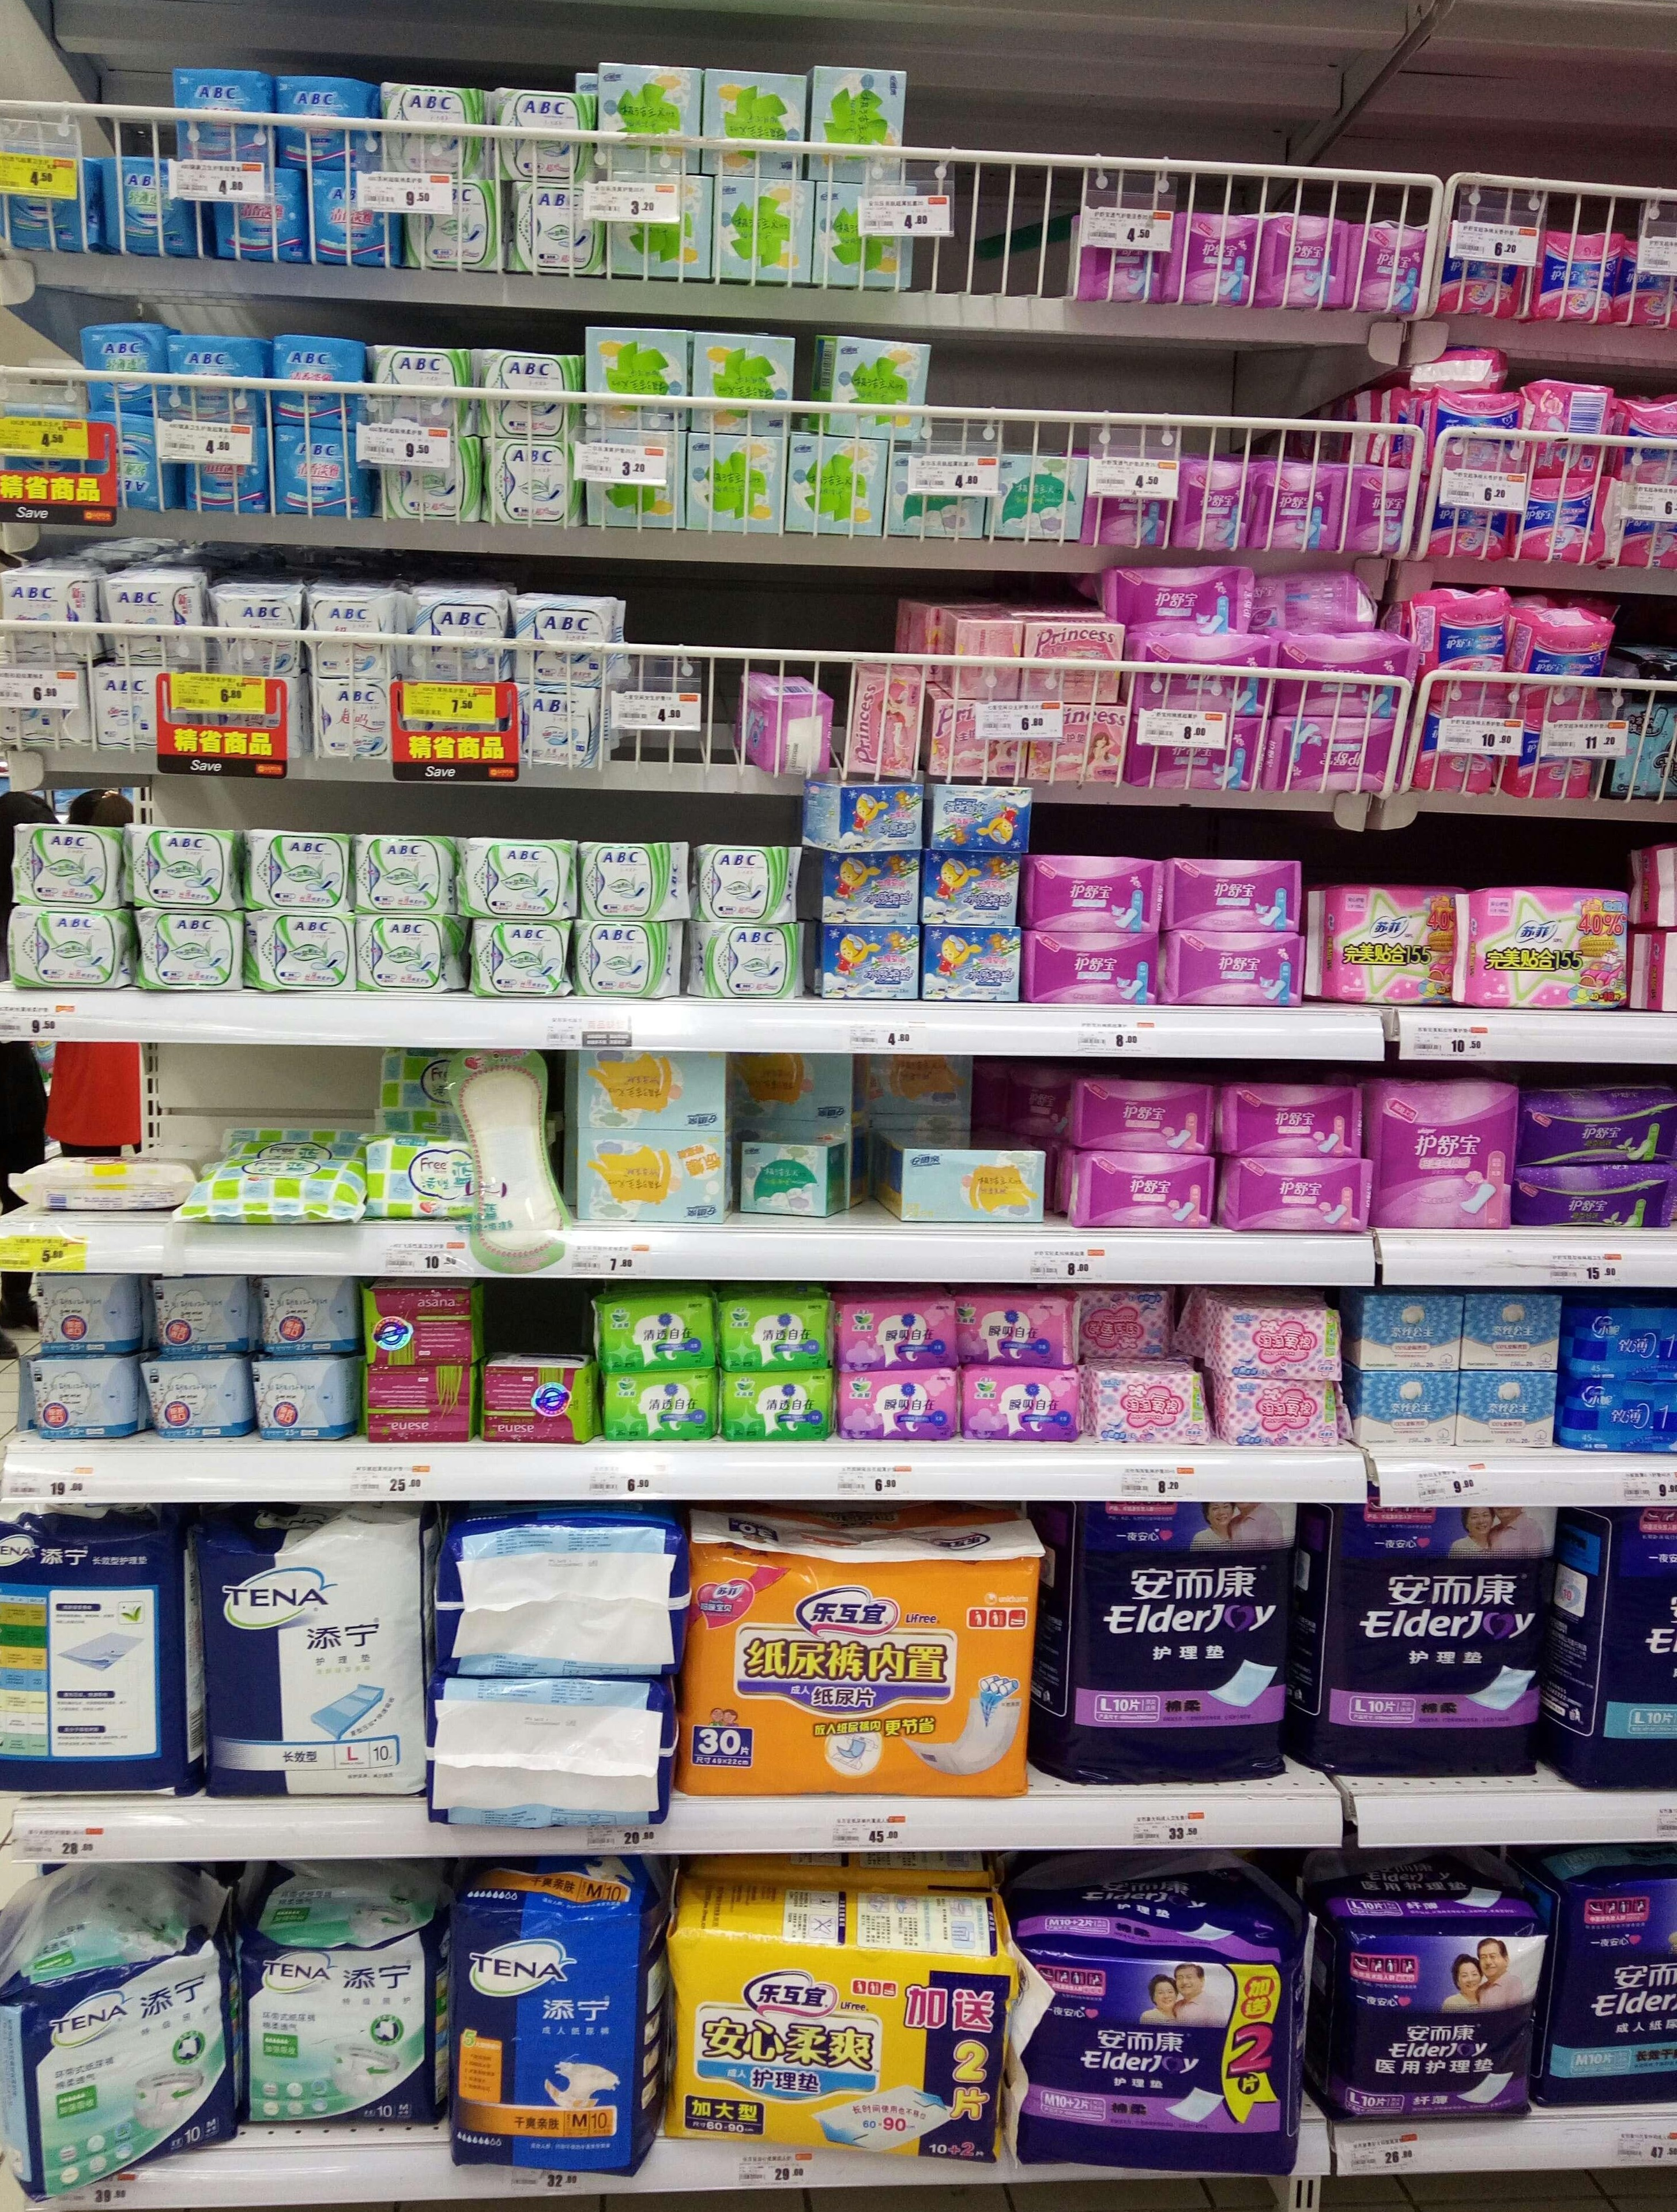empty: (918, 92, 1045, 294), (632, 574, 717, 761)
misalignment: (437, 1050, 573, 1279), (728, 1051, 856, 1212), (720, 657, 837, 785)
